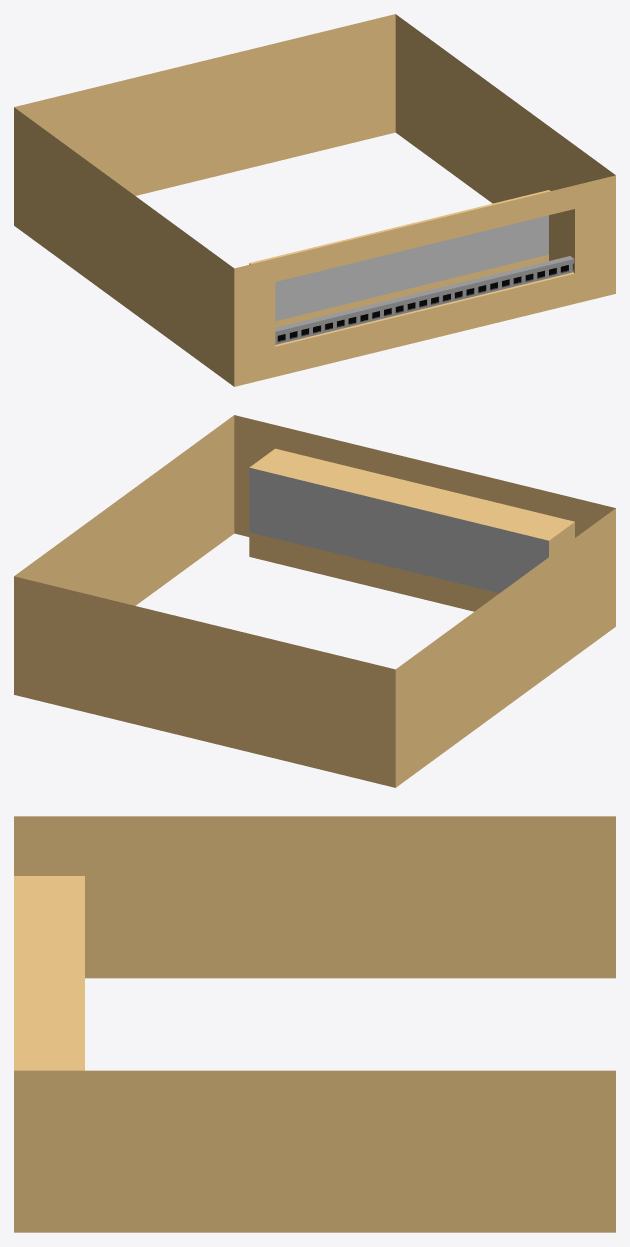
File: Town_Bld-Med_FloorC.FBX
The picture shows the model from 3 angles, top to bottom: view 1: azimuth 30°, elevation 25°; view 2: azimuth 150°, elevation 25°; view 3: azimuth 270°, elevation 25°; orthographic projection. The views are drawn at different scales.
Visible parts, largest first — view 1: Town_Bld-Med_FloorC; view 2: Town_Bld-Med_FloorC; view 3: Town_Bld-Med_FloorC.
Part boxes in pixels (x1,y1,x2,y2): Town_Bld-Med_FloorC: (14,14,615,386); Town_Bld-Med_FloorC: (14,415,615,787); Town_Bld-Med_FloorC: (14,816,615,1232).
Bounding box in the file's own units: 600 × 178 × 600.
